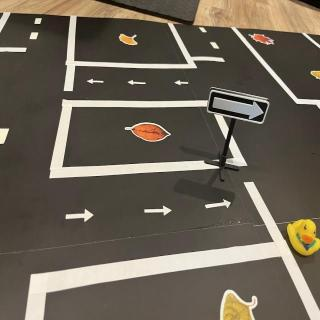duck_regular: (287, 218, 320, 259)
road_oneway: (65, 208, 97, 226), (144, 204, 176, 222), (205, 197, 235, 214), (127, 79, 149, 89), (86, 78, 106, 88), (174, 80, 192, 90)
sign_oneway_right: (206, 87, 272, 126)
